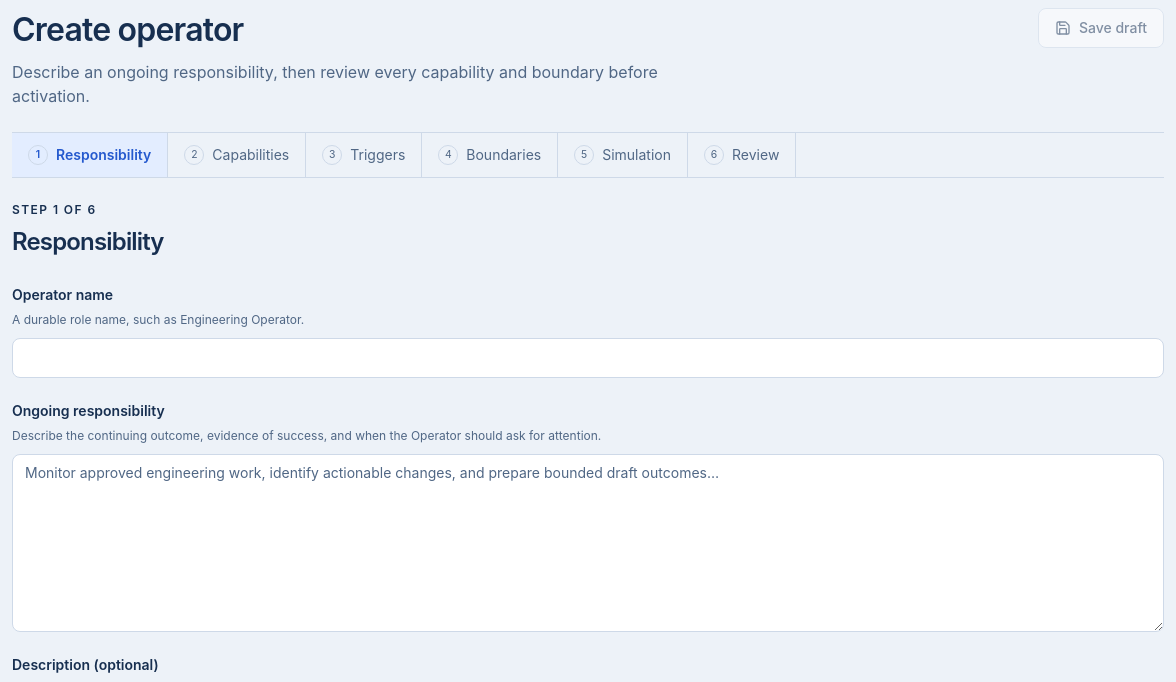
Test: Open Agency Operator workspaces › generates a conservative proposal without inferring capabilities
Type "Research Operator" into the field named "Operator name" at (588, 358), box [12,338,1164,378]
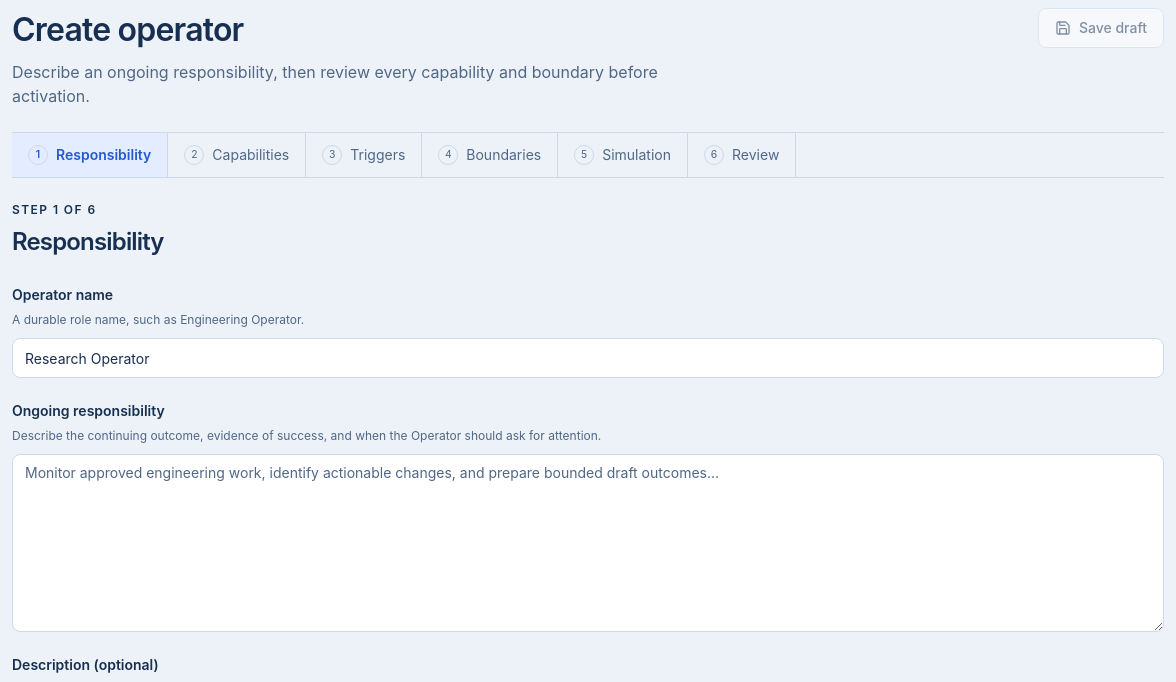
Replace the text in the text box named "Ongoing responsibility" with "Monitor approved research inputs and prepare evidence-backed briefs." at (588, 543), box [12,454,1164,632]
(page scrolled)
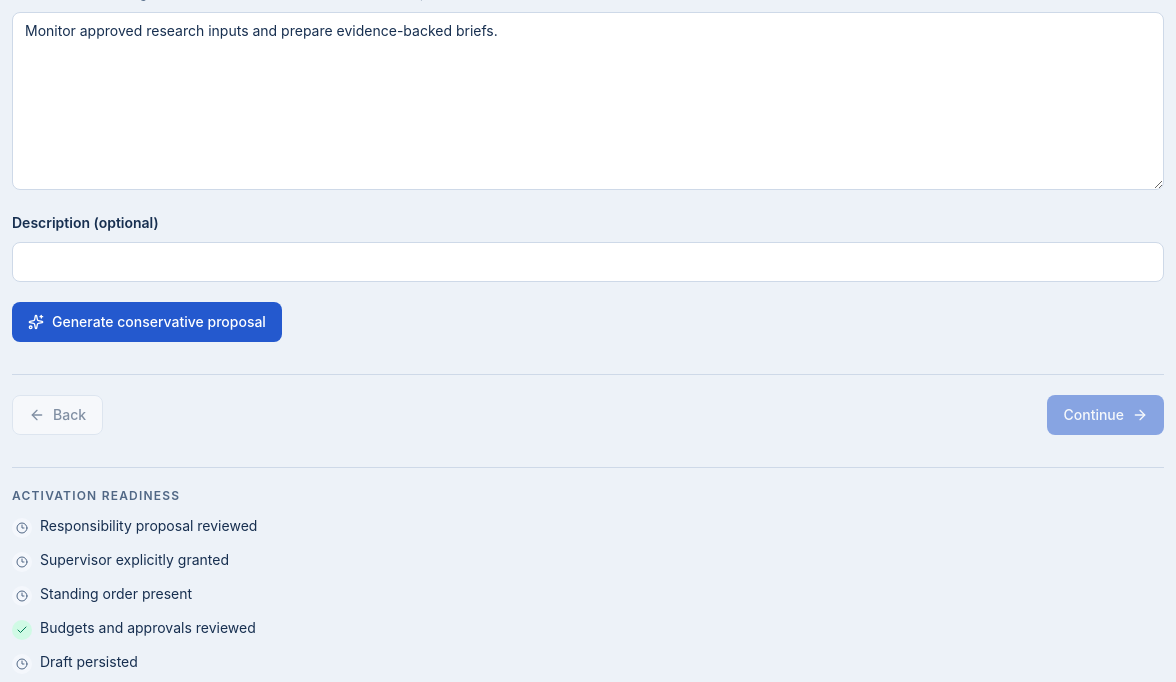
Click the button "Generate conservative proposal" at (147, 322), box [12,302,282,342]
(page scrolled)
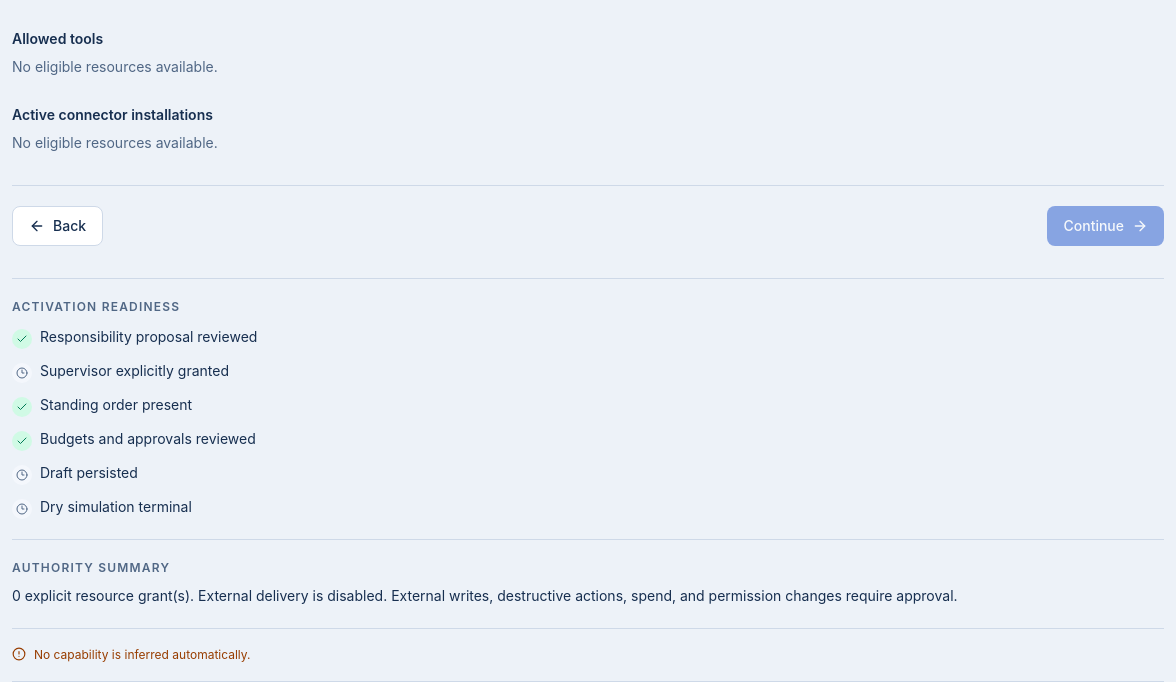
Now the text "No capability is inferred automatically." is shown, box [12,628,1164,681]
